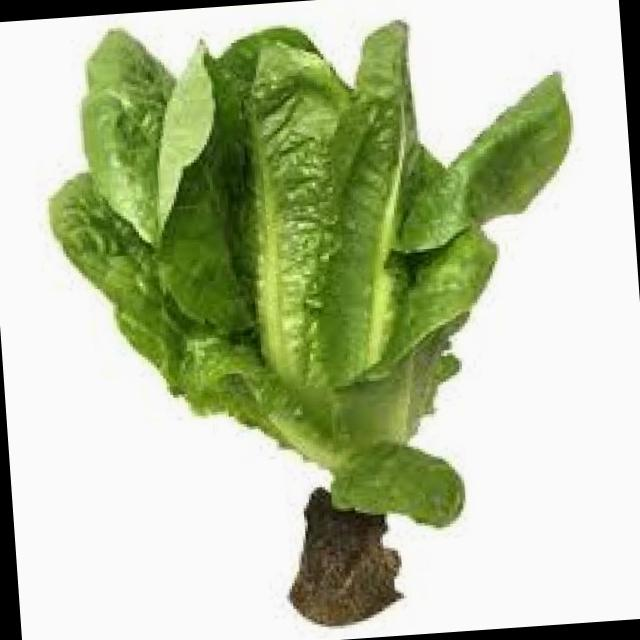Lettuce-Ready-to-Harvest: (50, 21, 570, 524)
